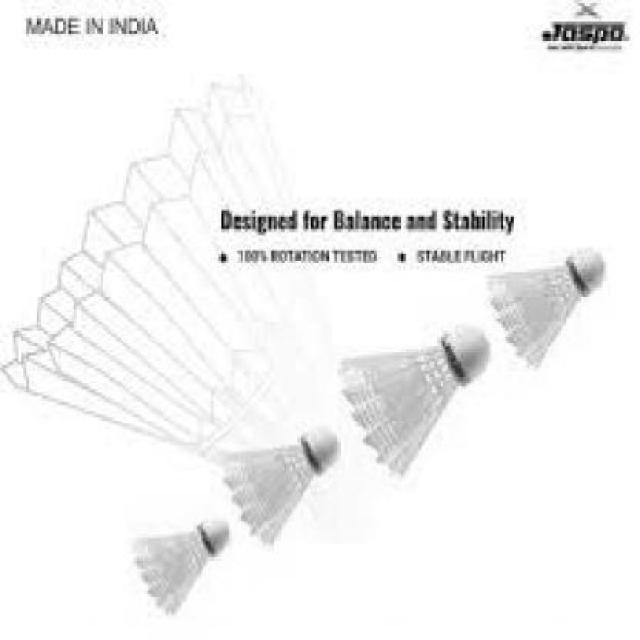Shuttlecock: (336, 323, 492, 482)
